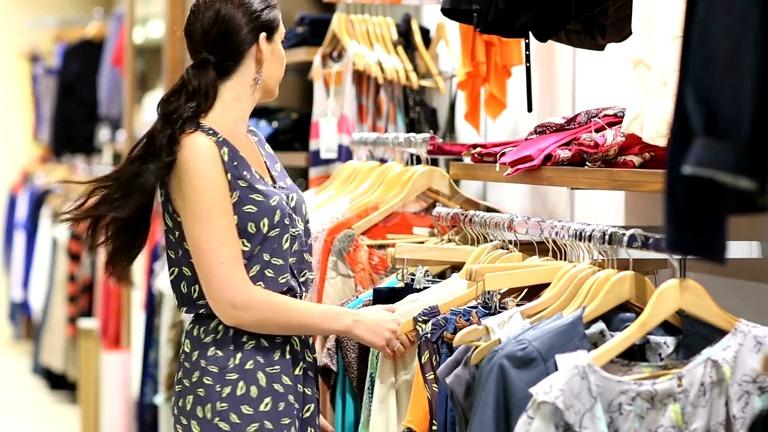Non shoplifting: (118, 0, 443, 432)
